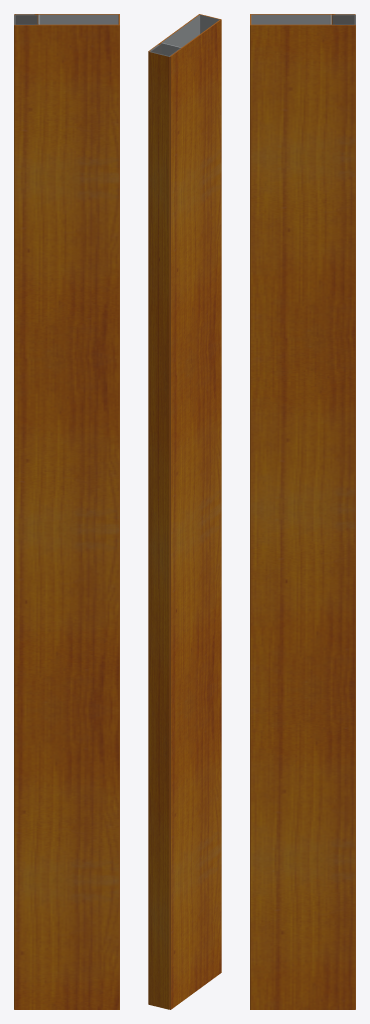
Rendered from modelbatten.glb.
3 renders of one model, left to right at view 1: azimuth 90°, elevation 25°; view 2: azimuth 150°, elevation 25°; view 3: azimuth 270°, elevation 25°, orthographic. The views are drawn at different scales.
Visible parts, largest first — view 1: C-KEB20050F, C-KEB5050MS; view 2: C-KEB20050F, C-KEB5050MS; view 3: C-KEB20050F, C-KEB5050MS.
Boxes of the visible parts, x1,y1,x2,y2 form: C-KEB20050F: (14, 14, 119, 1009); C-KEB5050MS: (14, 15, 37, 1009); C-KEB20050F: (148, 14, 221, 1009); C-KEB5050MS: (149, 43, 180, 1009); C-KEB20050F: (250, 14, 355, 1009); C-KEB5050MS: (332, 15, 355, 1009).
Bounding box in the file's own units: 0.05 × 2.03 × 0.1972.
3 materials, 1 textured.
